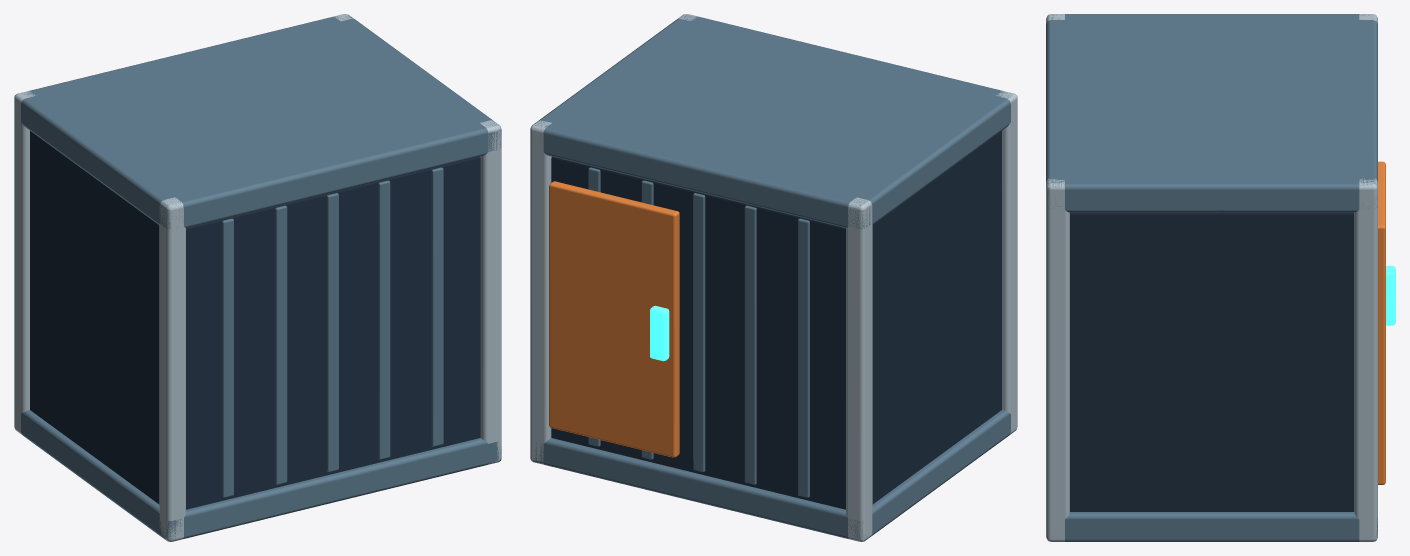
File: cargo-container.glb
3 views of the same model, side by side, from view 1: azimuth 30°, elevation 25°; view 2: azimuth 150°, elevation 25°; view 3: azimuth 270°, elevation 25° (orthographic). The views are drawn at different scales.
Parts seen in each view (by area): view 1: body, rim-1.92, rim-0.08, post--0.98-0.78, post-0.98-0.78, post--0.98--0.78, rib-0.32, rib--0.32, rib-0, rib-0.65, rib--0.65; view 2: body, rim-1.92, door, rim-0.08, post--0.98--0.78, post-0.98--0.78, post--0.98-0.78, rib--0.32, rib-0, rib--0.65, lock; view 3: body, rim-1.92, rim-0.08, post-0.98-0.78, post-0.98--0.78, door, lock.
Boxes of the visible parts, left/top/right/bottom form: body: left=30, top=131, right=480, bottom=509; rim-1.92: left=21, top=15, right=501, bottom=228; rim-0.08: left=21, top=410, right=501, bottom=541; post--0.98-0.78: left=159, top=197, right=185, bottom=541; post-0.98-0.78: left=480, top=120, right=501, bottom=464; post--0.98--0.78: left=14, top=91, right=35, bottom=434; rib-0.32: left=378, top=180, right=390, bottom=459; rib--0.32: left=275, top=205, right=287, bottom=484; rib-0: left=326, top=193, right=338, bottom=472; rib-0.65: left=431, top=167, right=443, bottom=446; rib--0.65: left=222, top=218, right=233, bottom=497; body: left=551, top=131, right=1001, bottom=509; rim-1.92: left=532, top=14, right=1010, bottom=229; door: left=549, top=181, right=679, bottom=457; rim-0.08: left=533, top=410, right=1010, bottom=539; post--0.98--0.78: left=846, top=197, right=872, bottom=541; post-0.98--0.78: left=530, top=120, right=551, bottom=464; post--0.98-0.78: left=996, top=91, right=1017, bottom=434; rib--0.32: left=744, top=205, right=756, bottom=484; rib-0: left=693, top=193, right=705, bottom=472; rib--0.65: left=798, top=218, right=809, bottom=497; lock: left=650, top=305, right=669, bottom=361; body: left=1070, top=212, right=1354, bottom=511; rim-1.92: left=1046, top=14, right=1377, bottom=212; rim-0.08: left=1047, top=512, right=1377, bottom=541; post-0.98-0.78: left=1046, top=178, right=1069, bottom=541; post-0.98--0.78: left=1354, top=178, right=1377, bottom=541; door: left=1378, top=161, right=1385, bottom=484; lock: left=1386, top=265, right=1395, bottom=325.
Size of the model in its own units: 2.08 by 2 by 1.77.
